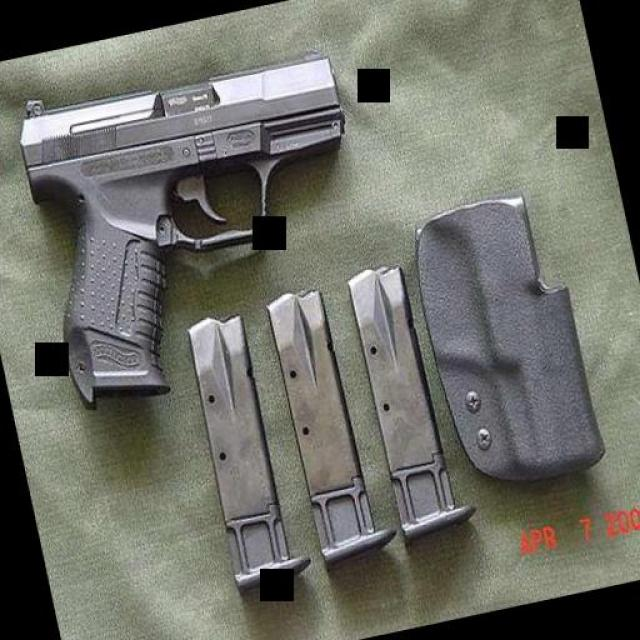gun: (7, 30, 395, 414)
